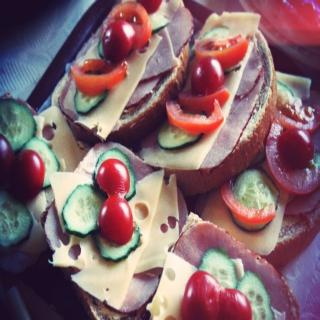tomato: (181, 269, 256, 319), (97, 198, 136, 248), (9, 150, 44, 200), (95, 154, 129, 196)
